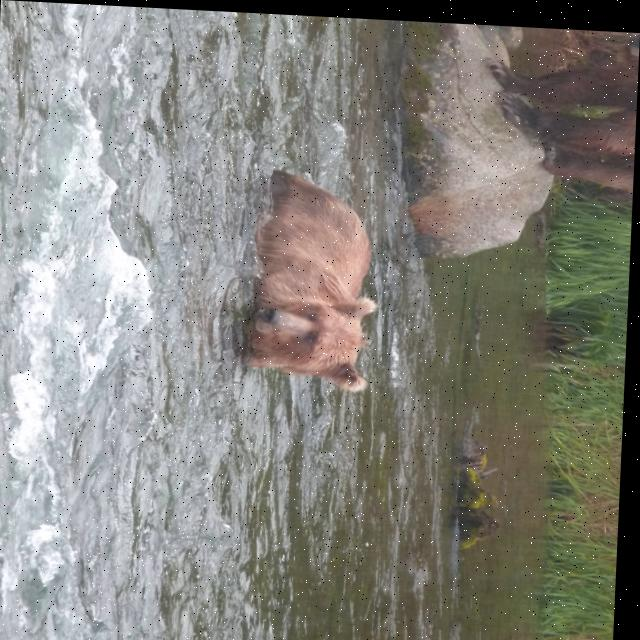bear face: (261, 173, 388, 390)
